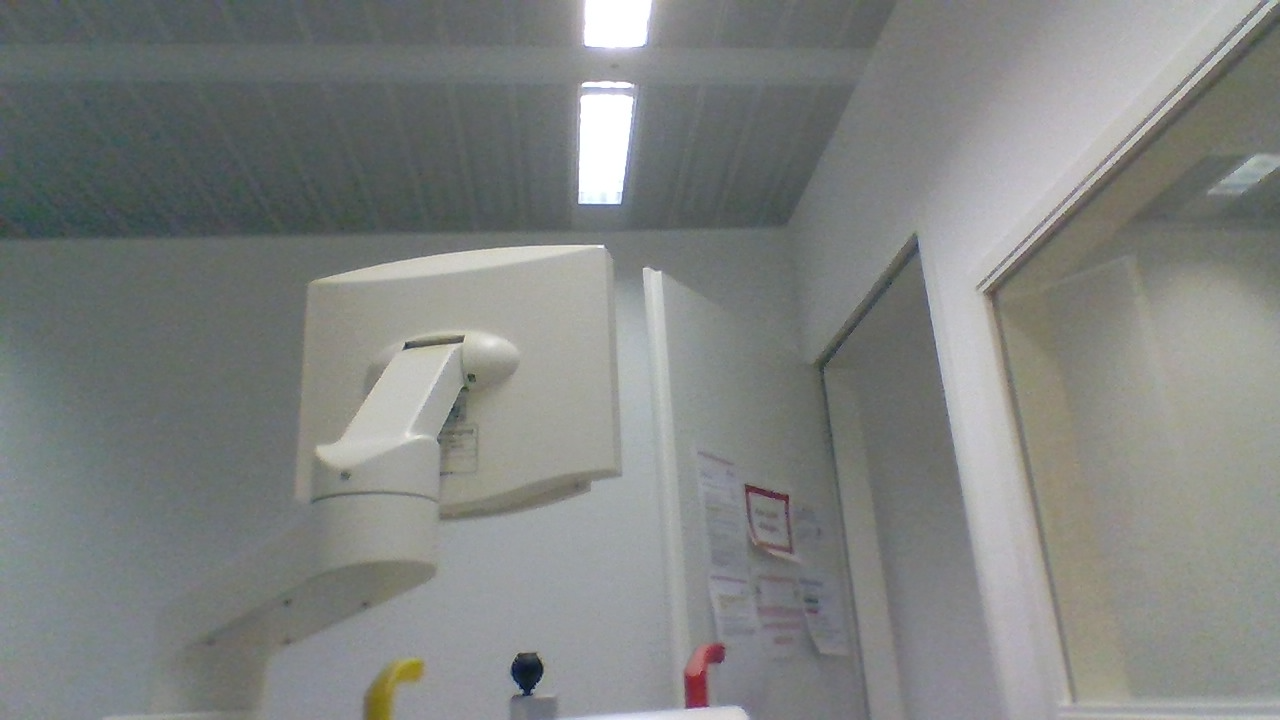carmSCREEN: (291, 239, 622, 524)
